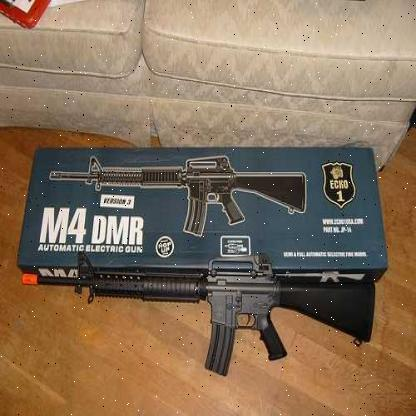rifle: (17, 241, 391, 381)
